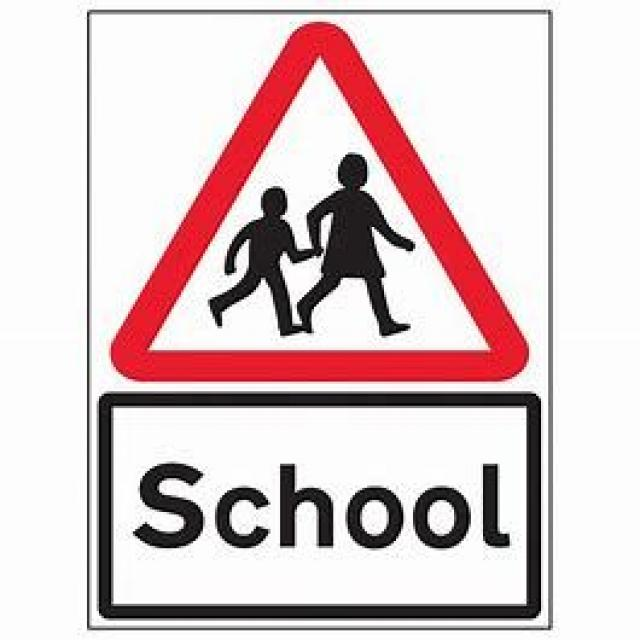SCHOOL_AHEAD: (106, 19, 526, 377)
